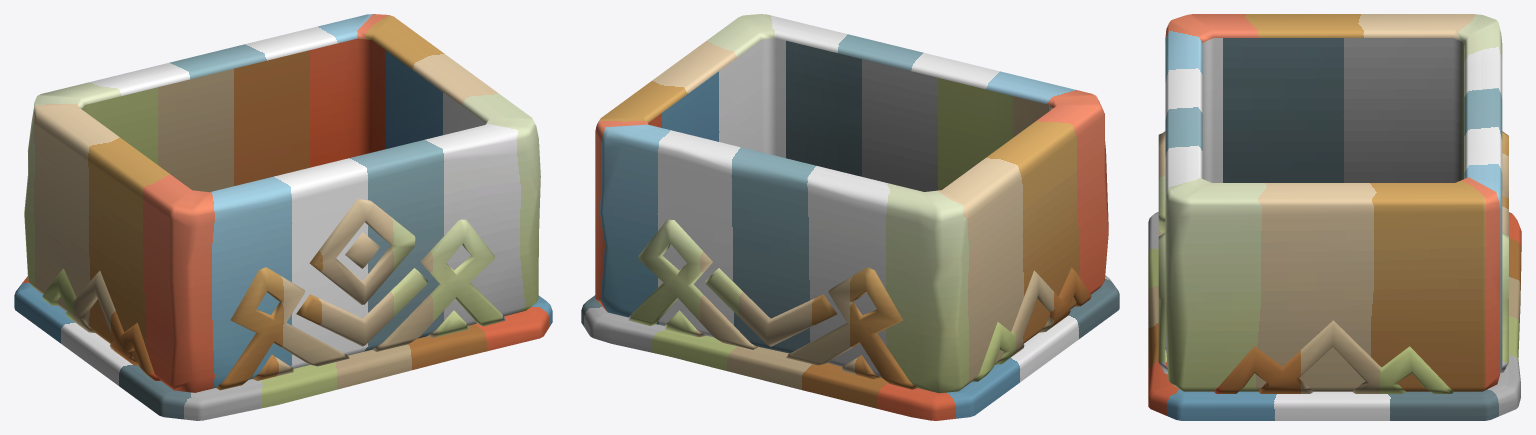
The model's file is Prop_ChestBox.glb.
3 renders of one model, left to right at view 1: azimuth 30°, elevation 25°; view 2: azimuth 150°, elevation 25°; view 3: azimuth 270°, elevation 25°, orthographic. The views are drawn at different scales.
Visible parts, largest first — view 1: Prop_ChestBox; view 2: Prop_ChestBox; view 3: Prop_ChestBox.
Part boxes in pixels (x1,y1,x2,y2): Prop_ChestBox: [14, 14, 552, 420]; Prop_ChestBox: [581, 14, 1119, 420]; Prop_ChestBox: [1148, 14, 1521, 420].
Bounding box in the file's own units: 1.22 × 0.6138 × 0.9582.
1 material, 1 textured.
